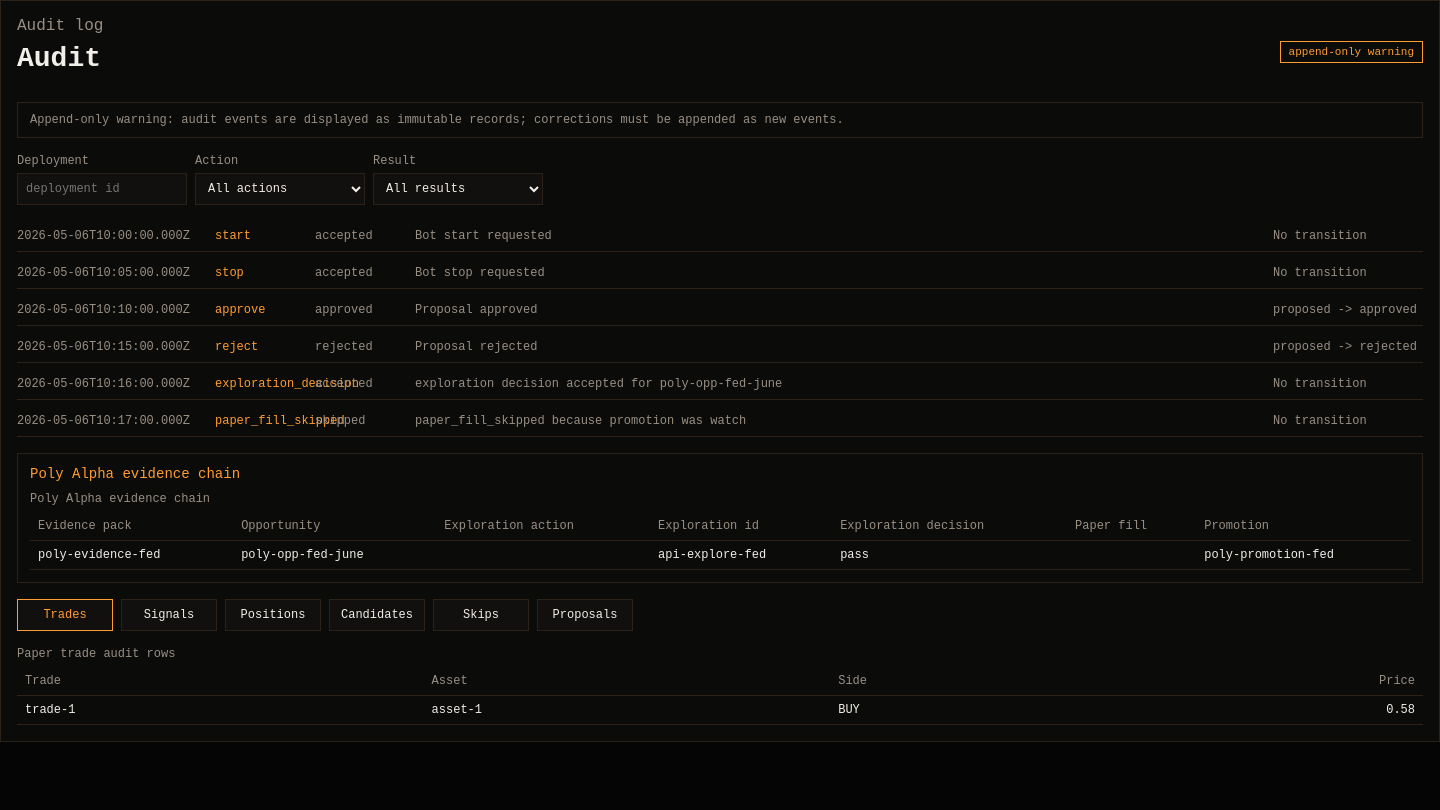
it: AuditPage › applies the deployment filter to the proposals tab
Expected: the heading "Audit" is shown, 17,43 -> 103,74
In the field labelled "Deployment": (102, 189) 17,173 -> 187,205, type "dep-test"
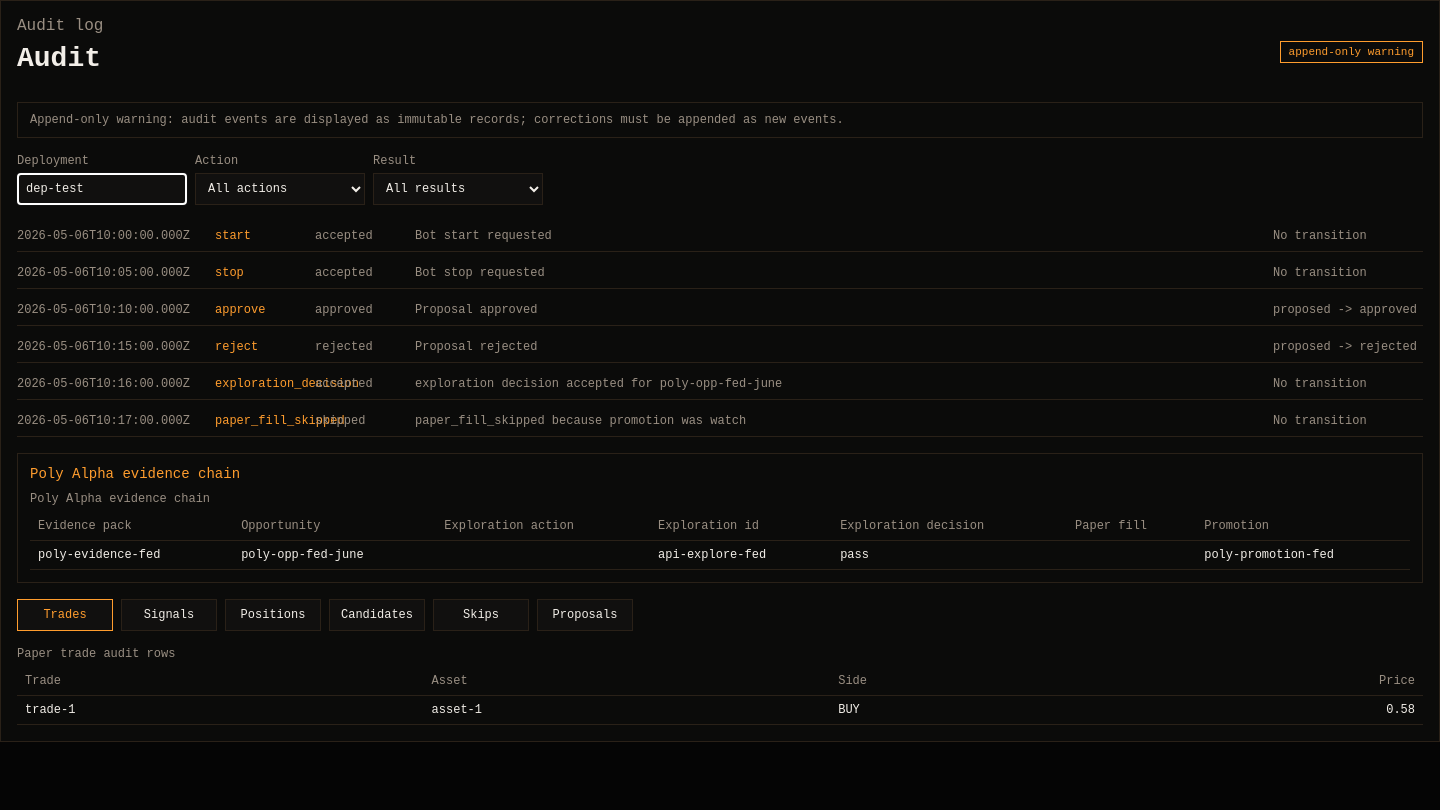
Click the tab "proposals": (585, 615) 537,599 -> 633,631
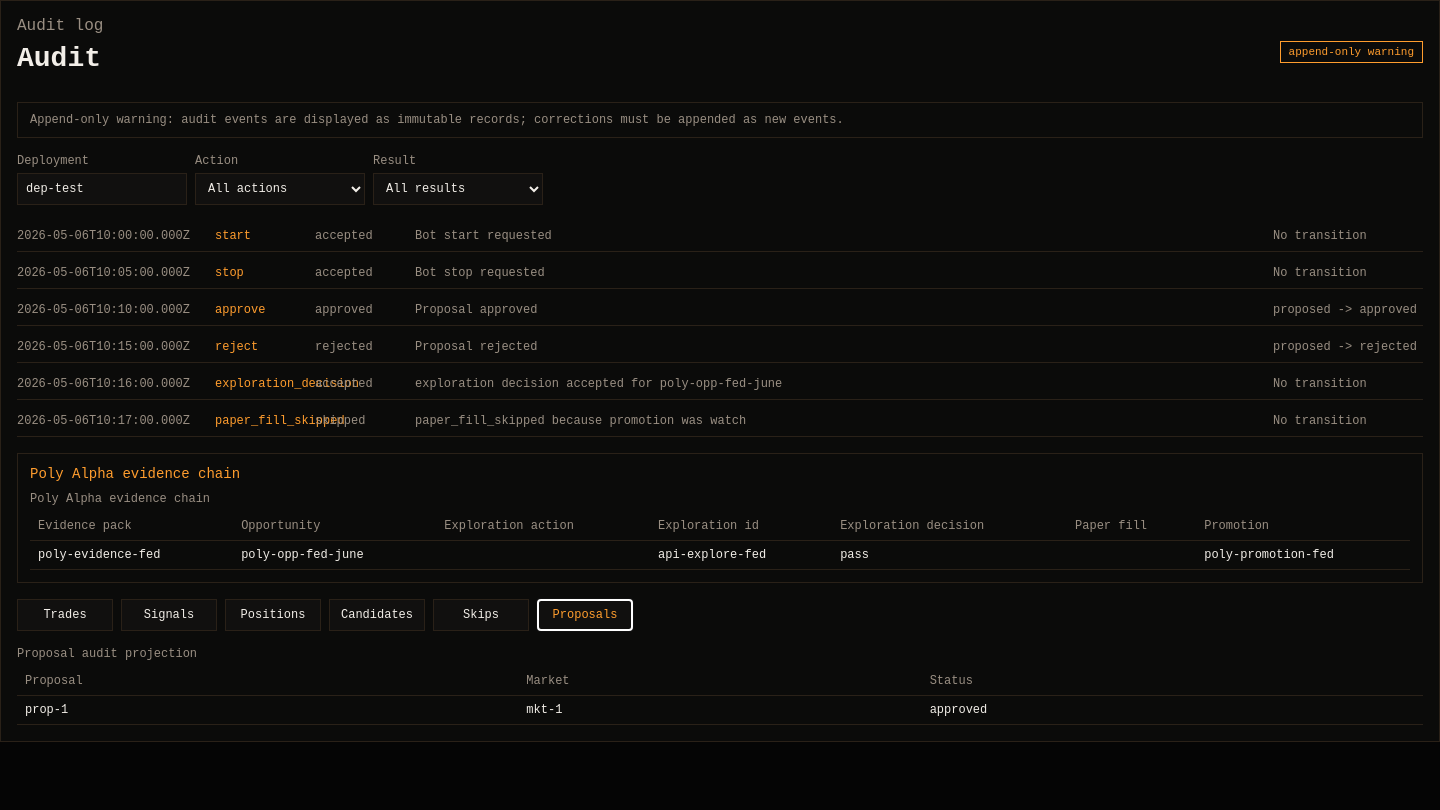
Now the text "prop-1" is shown, box 17,696 -> 518,724
Now the text "mkt-1" is shown, box 518,696 -> 922,724
